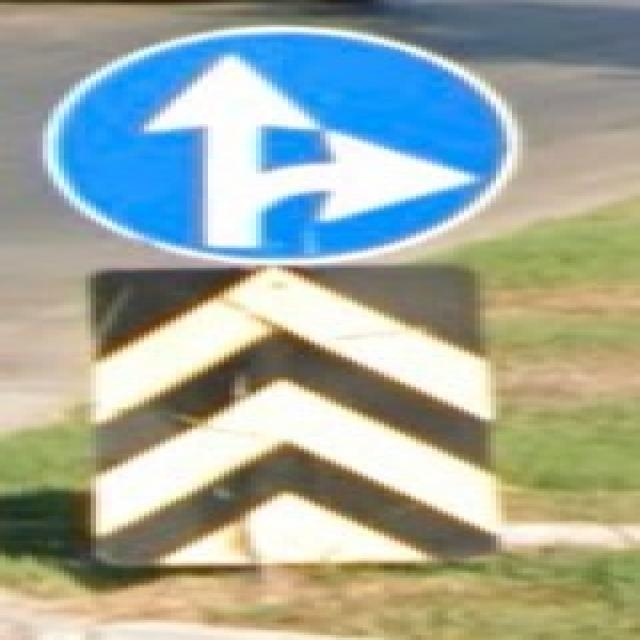Straight or Right: (49, 29, 508, 257)
